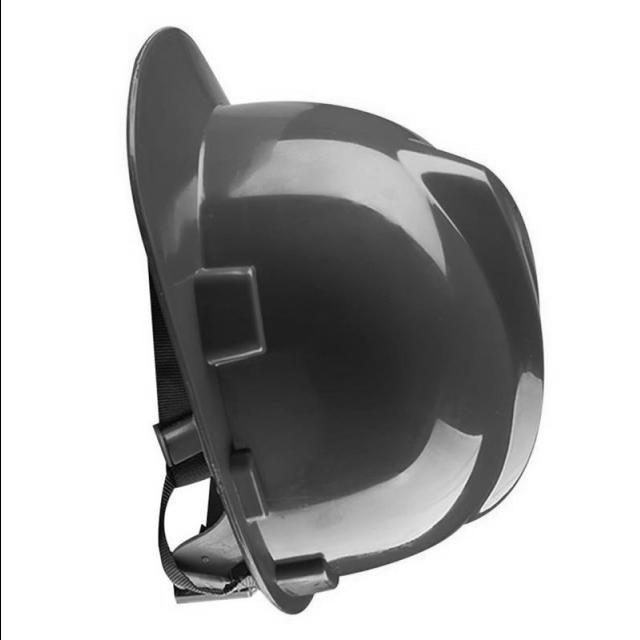safety_helmet: (122, 25, 543, 617)
